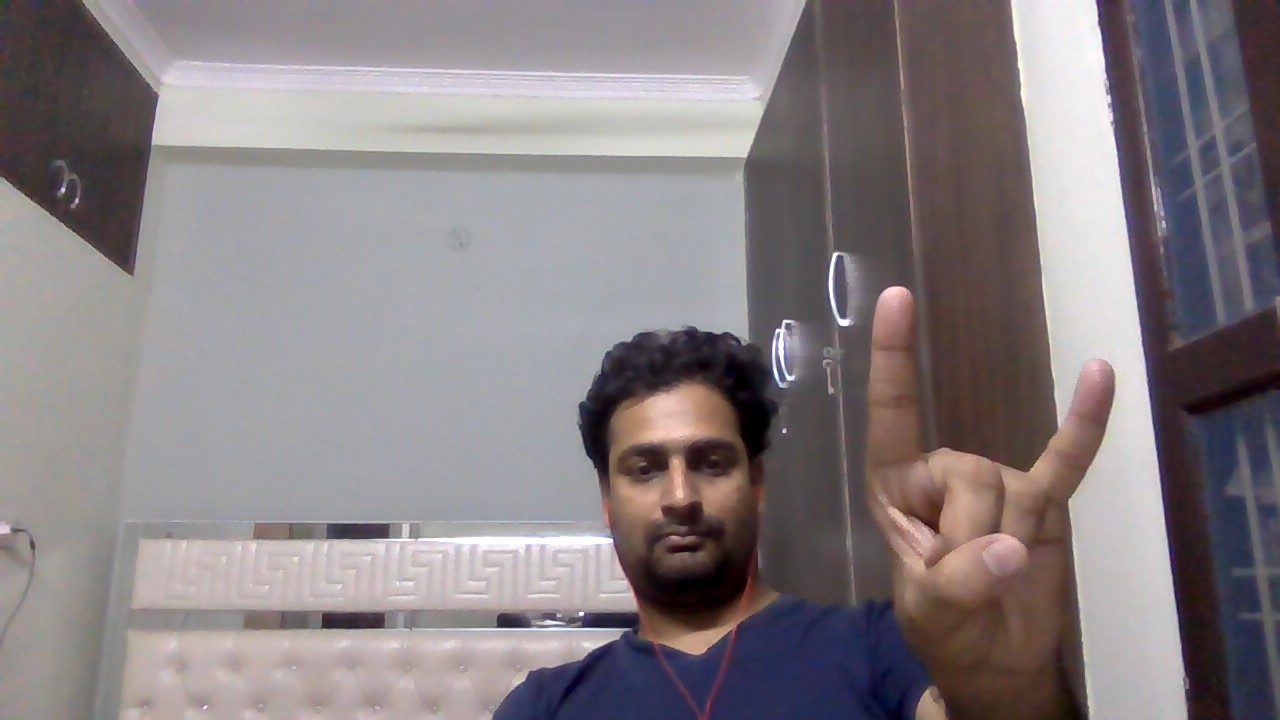Select All: (859, 277, 1135, 694)
